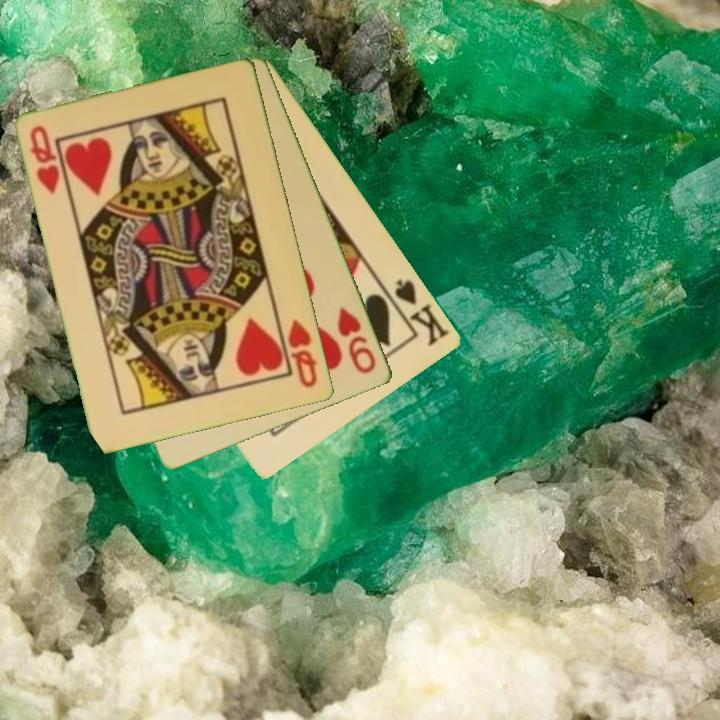9h: (334, 303, 379, 377)
Ks: (381, 276, 453, 350)
Qh: (284, 316, 321, 391), (27, 122, 63, 197)
